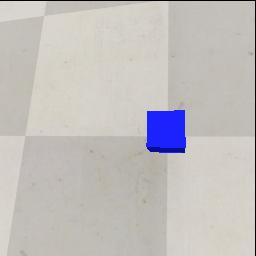box: (146, 110, 186, 153)
